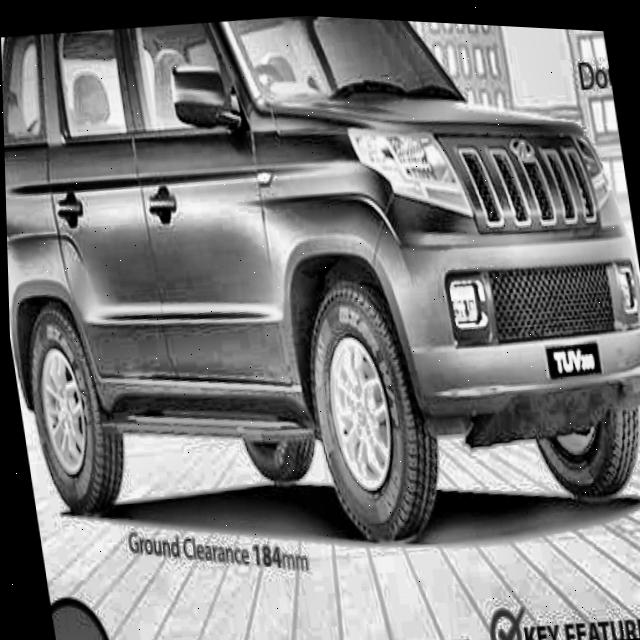light_vehicle: (0, 0, 640, 622)
